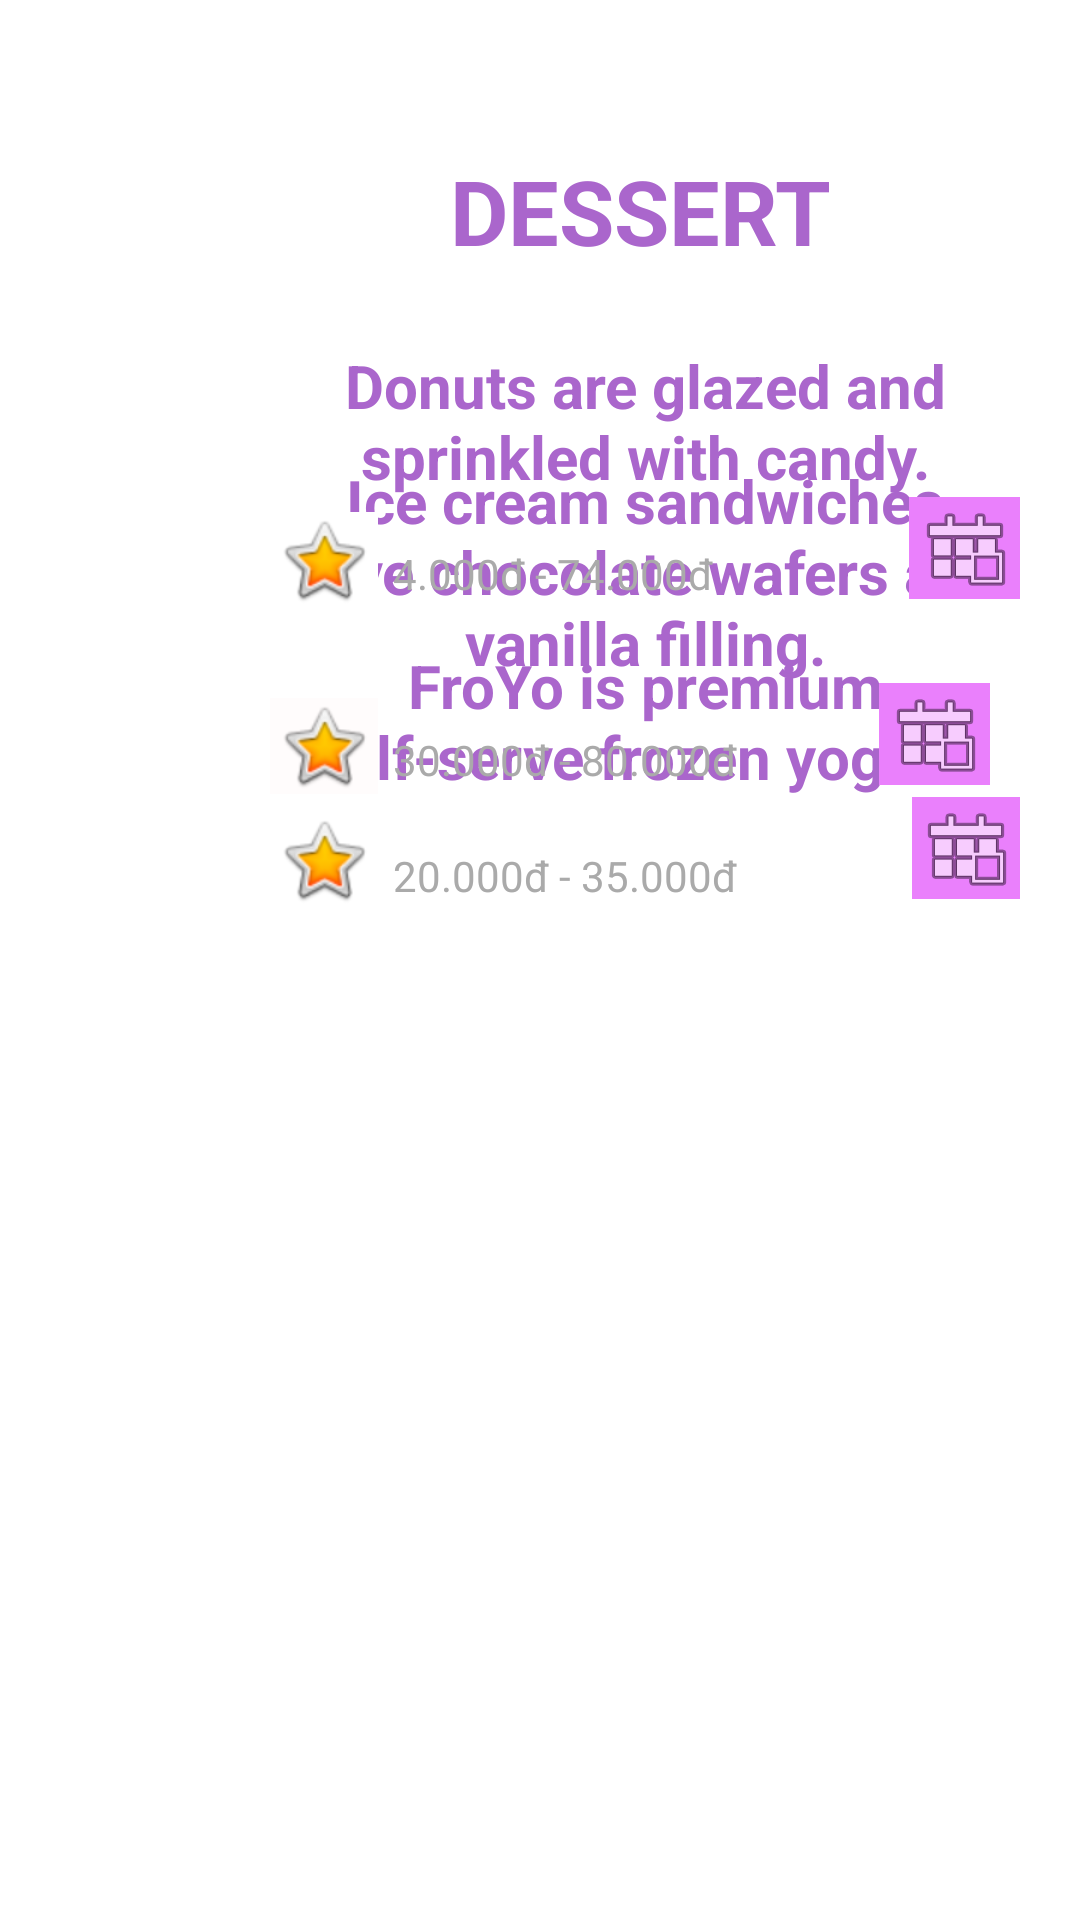

Locate icon controls on the screen. Image size 1080px x 1920px, boxes as (x1, y1, x2, y2).
star on: (285, 522, 365, 600), (285, 708, 365, 786), (285, 822, 365, 900)
today: (909, 497, 1020, 599), (879, 683, 990, 785), (912, 797, 1020, 899)
